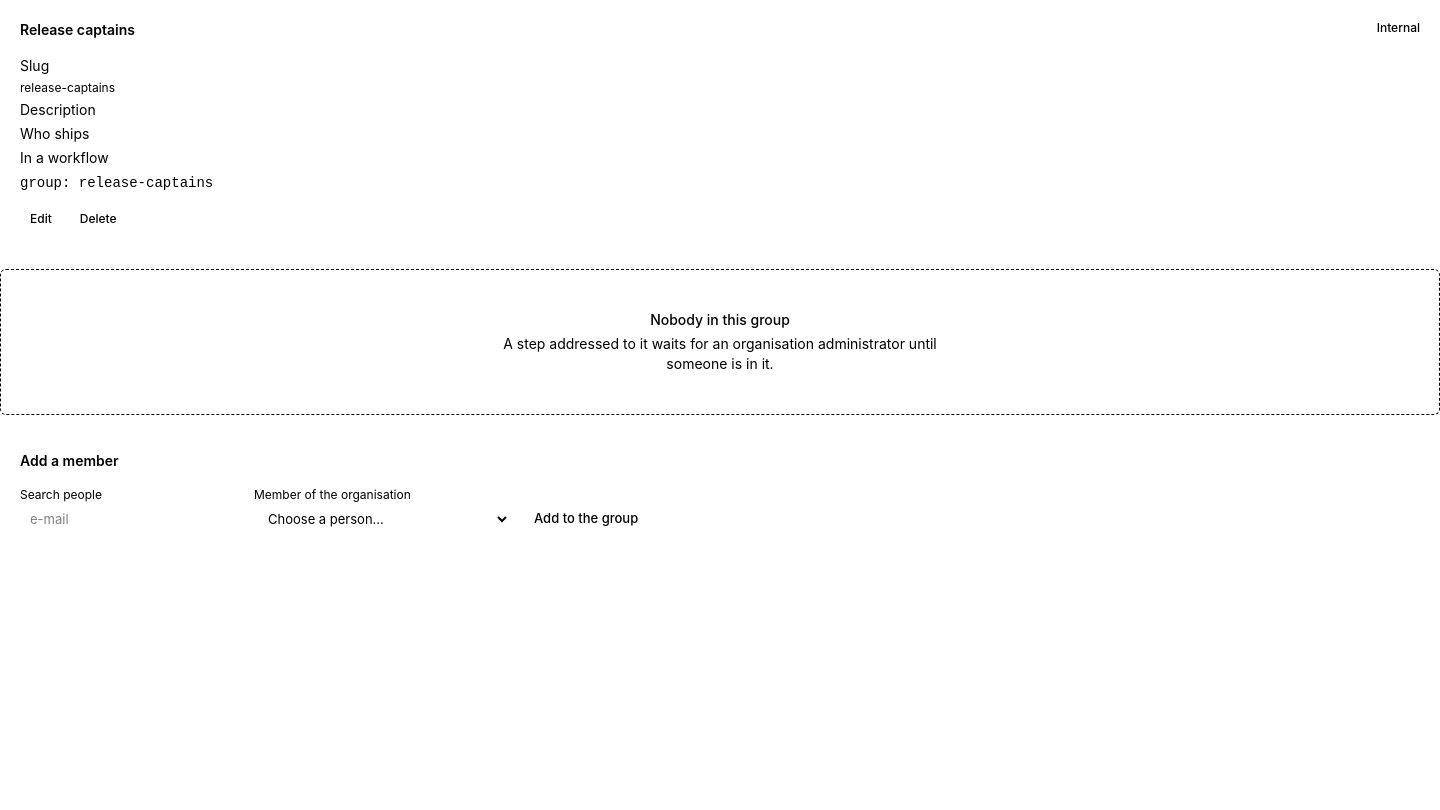
Scenario: one group's page › says why a person was refused, in the API's words
Check: the text "Nobody in this group" is shown, box [650,311,790,328]
Select "dev@acme.dev" in the dropdown with test id "member-choice" at (382, 519), box [254,503,510,535]
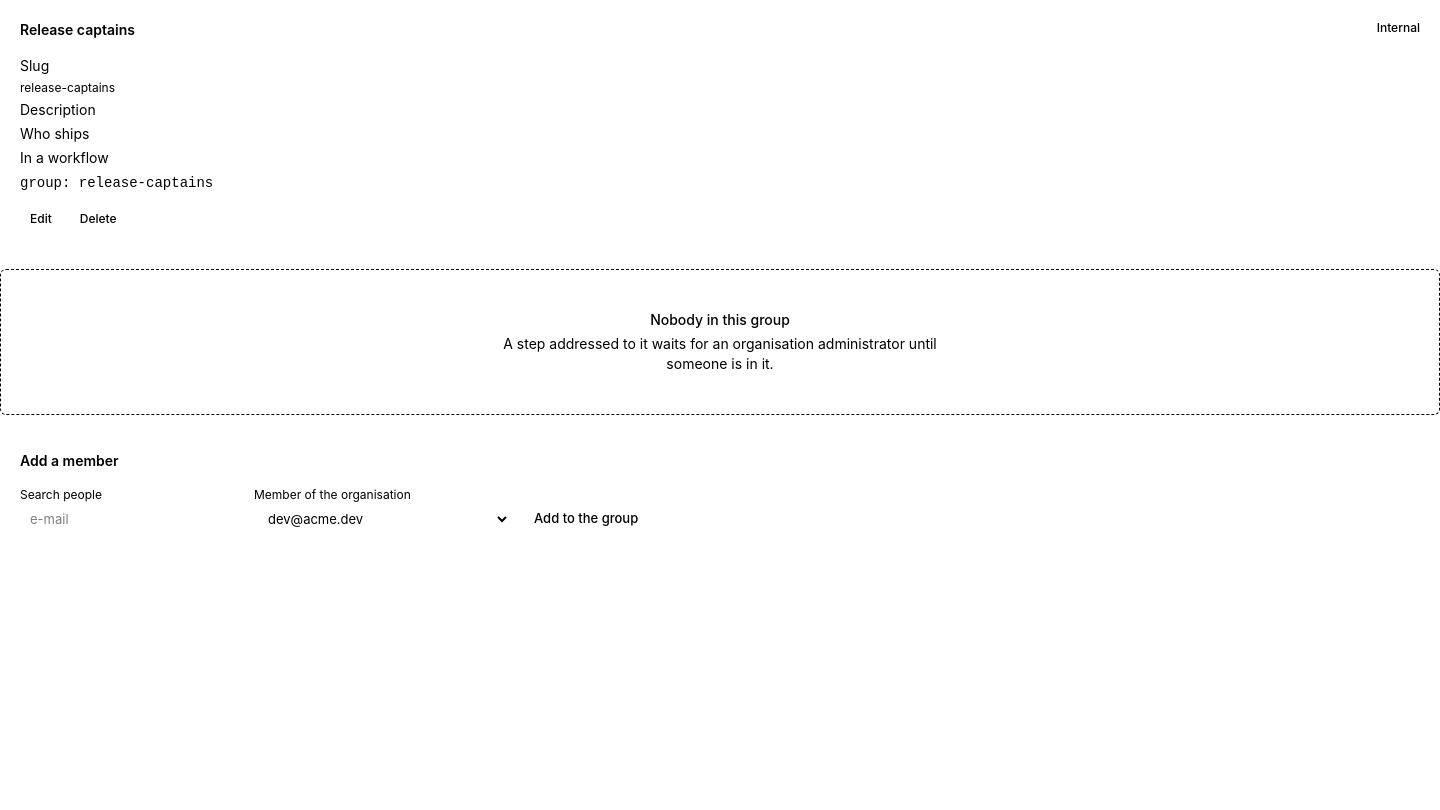
Click the button "Add to the group" at (586, 519), box [522,503,650,535]
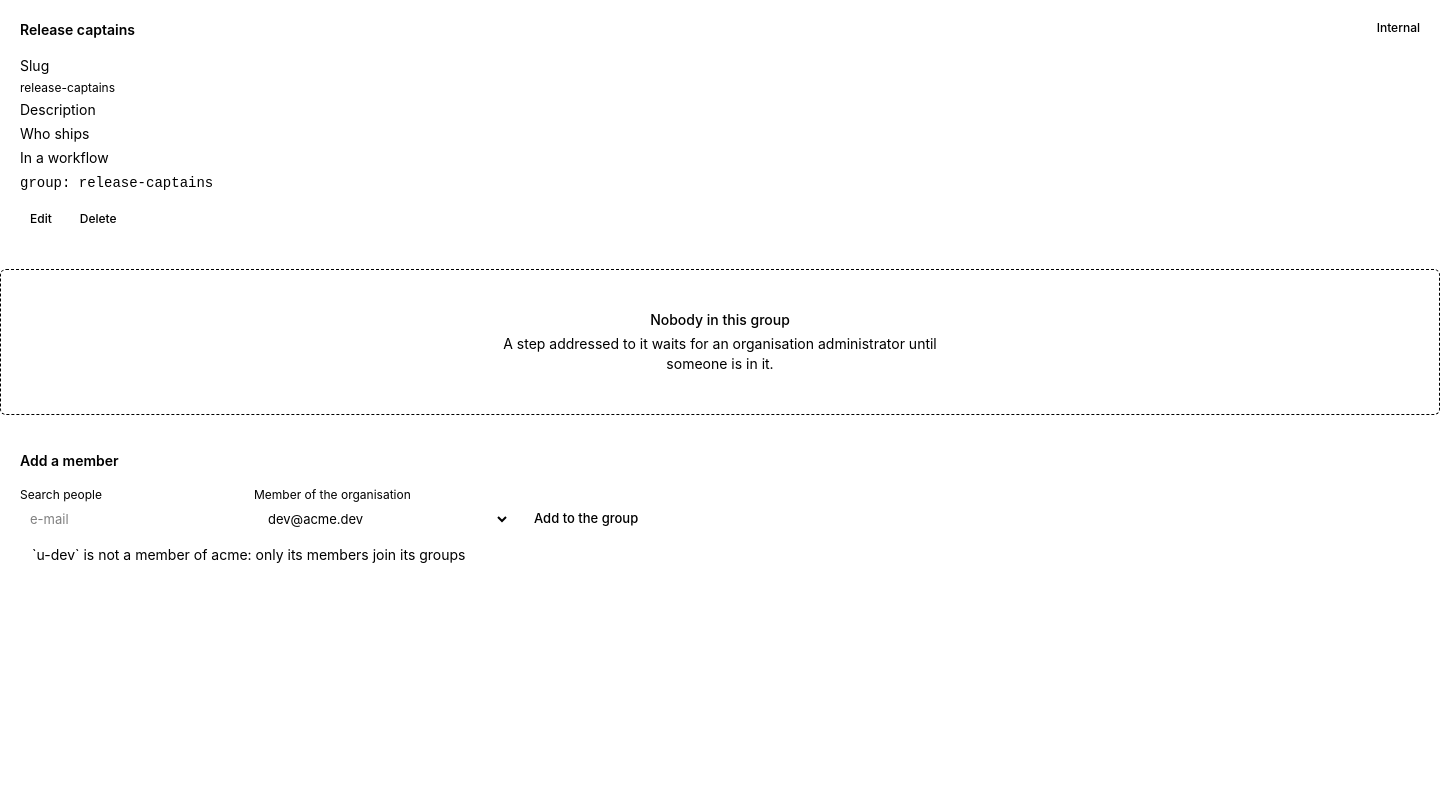
Check: the message shows "only its members join its groups", box [32,546,466,563]
